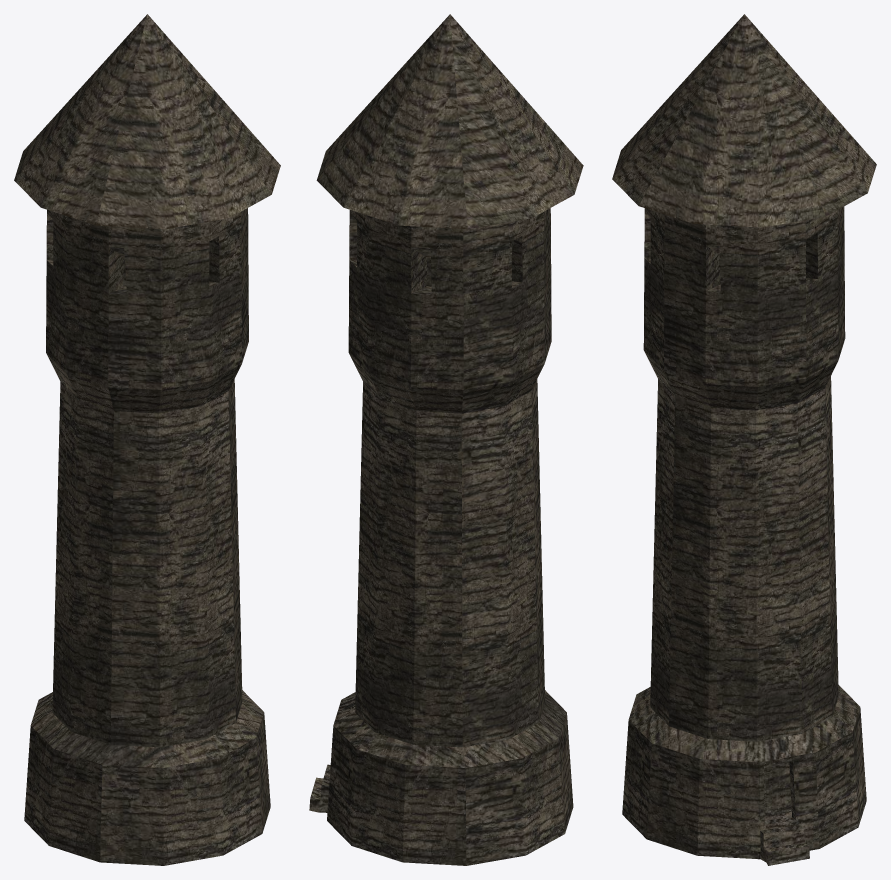
File: eng_tower.glb
The picture shows the model from 3 angles, left to right: view 1: azimuth 30°, elevation 25°; view 2: azimuth 150°, elevation 25°; view 3: azimuth 270°, elevation 25°; orthographic projection.
Visible parts, largest first — view 1: eng_tower; view 2: eng_tower; view 3: eng_tower.
Part boxes in pixels (x1,y1,x2,y2): eng_tower: [14, 14, 280, 865]; eng_tower: [309, 14, 583, 865]; eng_tower: [612, 14, 876, 865].
Bounding box in the file's own units: 1.87 × 6 × 1.81.
Materials: 1 (1 with a texture image).
